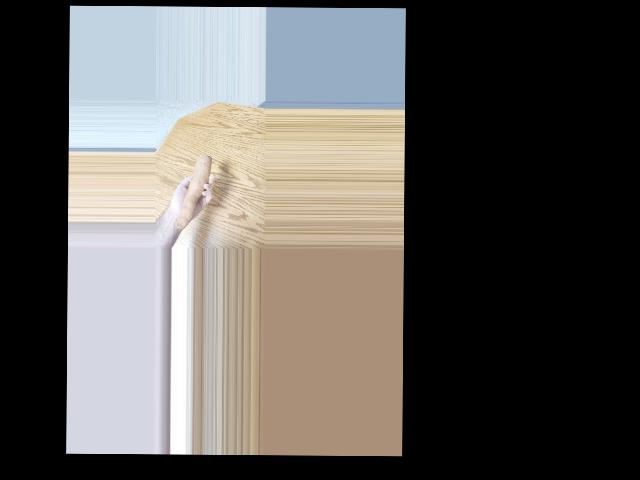sweet_potato: (176, 153, 213, 227)
